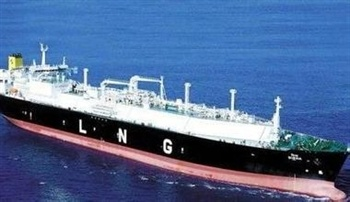Cargoship: (1, 43, 346, 202)
